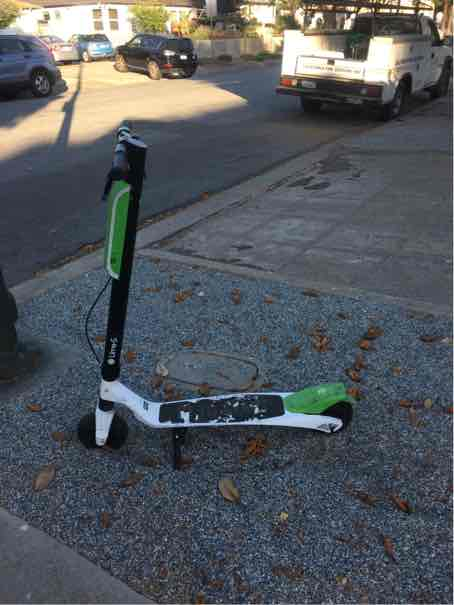scooter: (71, 103, 363, 454)
